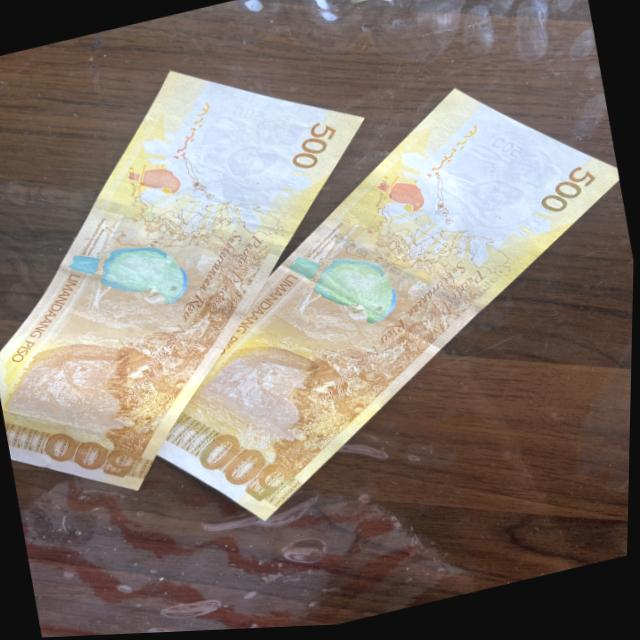500_big_parrot: (61, 226, 206, 328), (282, 236, 415, 344)
500_parrot_watermark: (373, 173, 433, 223), (122, 162, 185, 206)
value_watermark: (226, 97, 276, 135), (491, 137, 527, 166)
watermark: (440, 134, 574, 243), (182, 103, 313, 207)
